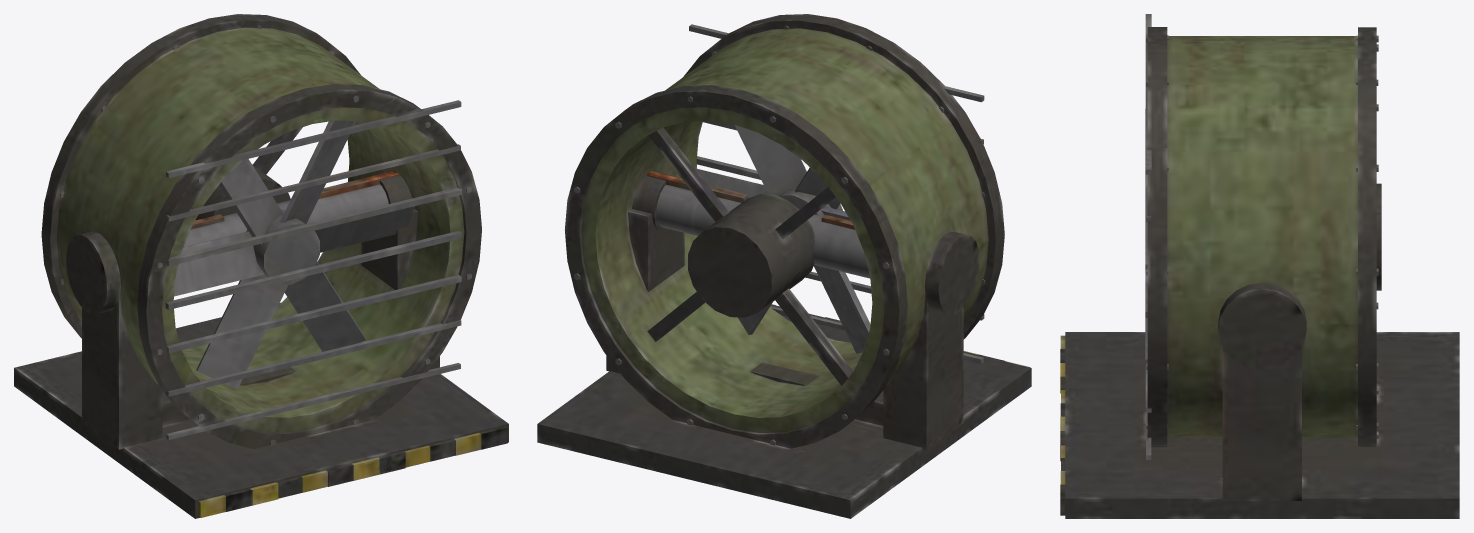
Rendered from feFan.glb.
3 renders of one model, left to right at view 1: azimuth 30°, elevation 25°; view 2: azimuth 150°, elevation 25°; view 3: azimuth 270°, elevation 25°, orthographic. The views are drawn at different scales.
Visible parts, largest first — view 1: feFan_Base, FeSpin_x4_Blades, FeSpin_DriveShaft; view 2: feFan_Base, FeSpin_DriveShaft, FeSpin_x4_Blades; view 3: feFan_Base, FeSpin_DriveShaft.
Part boxes in pixels (bbox=[...]): feFan_Base: bbox=[14, 14, 508, 518]; FeSpin_x4_Blades: bbox=[174, 120, 414, 389]; FeSpin_DriveShaft: bbox=[66, 171, 399, 314]; feFan_Base: bbox=[537, 14, 1031, 518]; FeSpin_DriveShaft: bbox=[647, 171, 979, 314]; FeSpin_x4_Blades: bbox=[677, 125, 870, 353]; feFan_Base: bbox=[1060, 14, 1459, 518]; FeSpin_DriveShaft: bbox=[1218, 282, 1306, 369].
Size of the model in its own units: 1 by 0.983 by 0.9121.
1 material, 1 textured.
